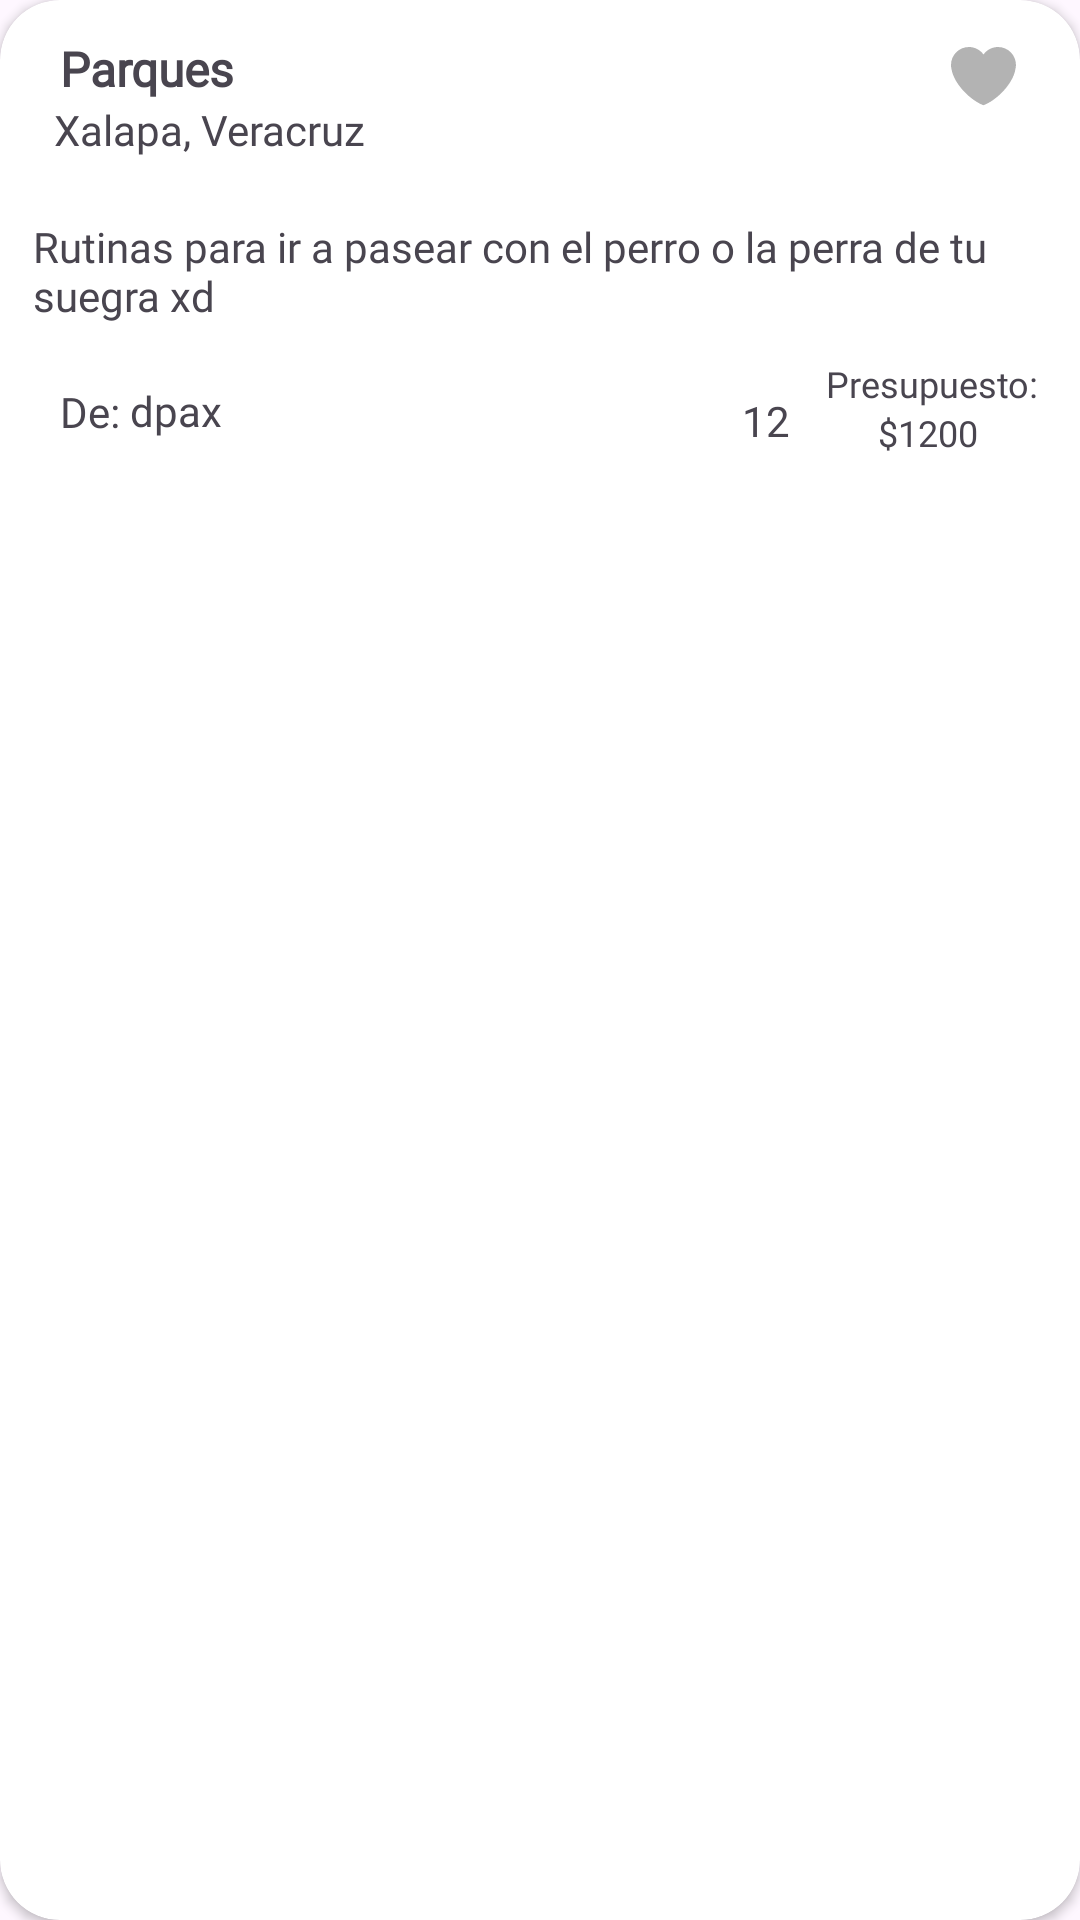

Named icons in this screenshot (1080 × 1920) and their centers, [x,y]:
favorites: [983,76]
